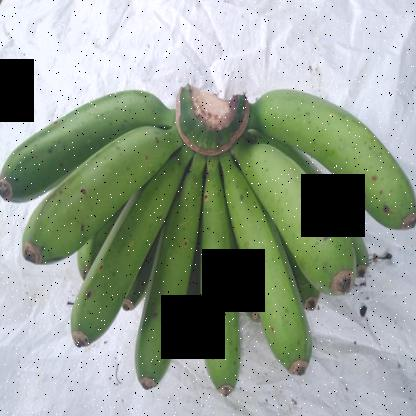unripe: (13, 122, 176, 275), (200, 153, 305, 376), (1, 75, 178, 207), (120, 148, 211, 404), (272, 78, 415, 240), (244, 140, 366, 313), (191, 149, 252, 408)
